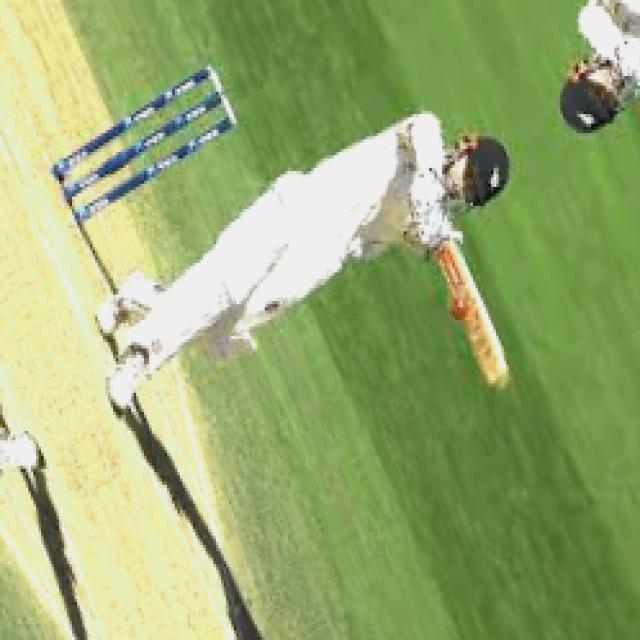toe: (482, 346, 512, 390)
